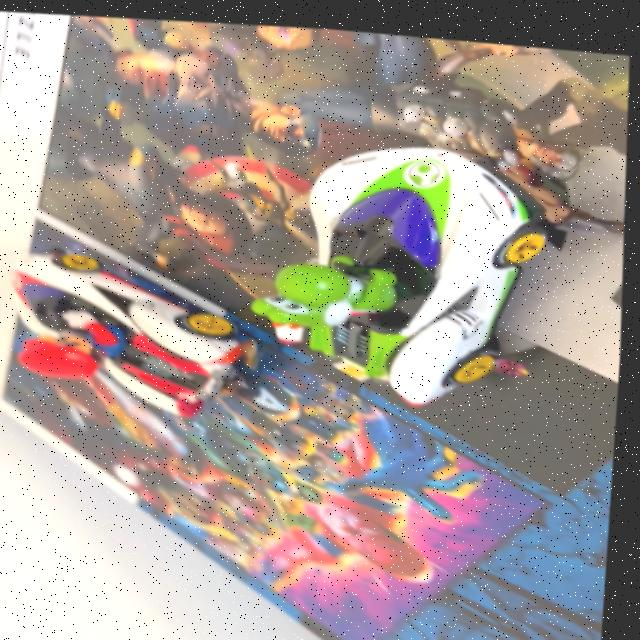mario: (0, 211, 274, 432)
yoshi: (223, 104, 589, 436)
